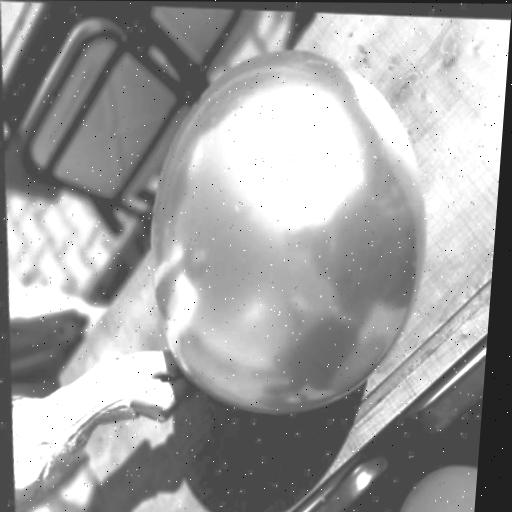balloon: (114, 43, 453, 413)
